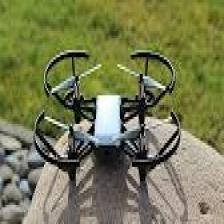drone: (33, 47, 182, 177)
